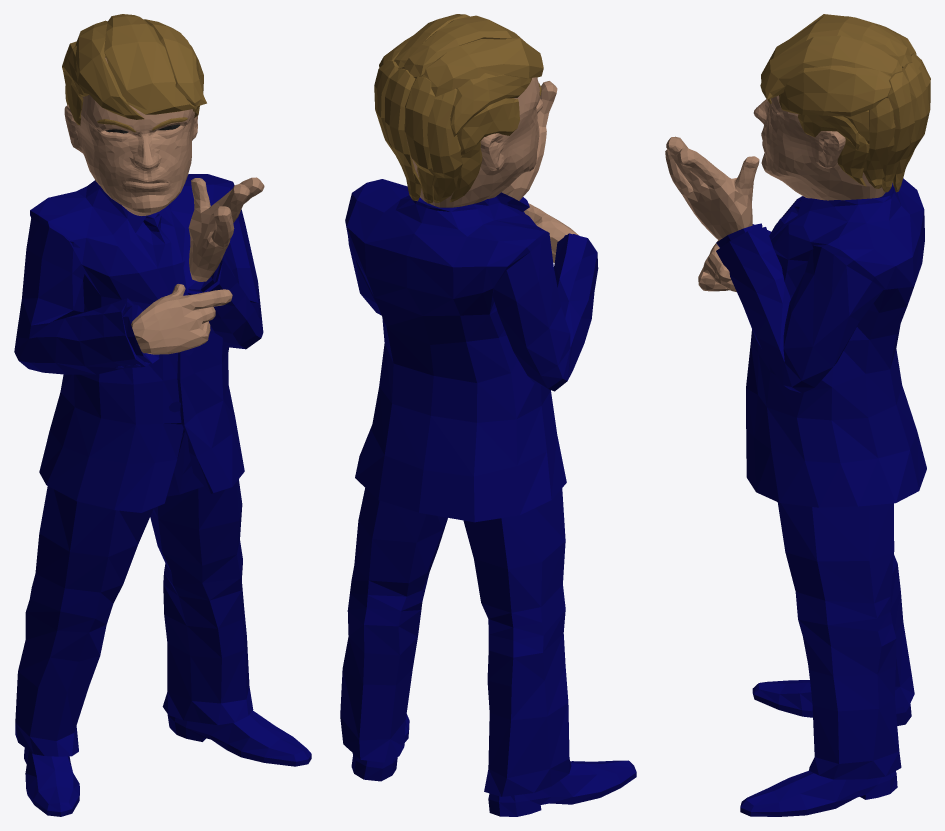
File: trump.dae
3 renders of one model, left to right at view 1: azimuth 30°, elevation 25°; view 2: azimuth 150°, elevation 25°; view 3: azimuth 270°, elevation 25°, orthographic. The views are drawn at different scales.
Parts seen in each view (by area): view 1: Trump_Suit_rdmobj02____rdmobj02__rdmobj02____rdmobj02_____00, Trump_Hair_pCube14_Trump_Geo, Trump_Head_1_Group2_Trump_Geo, Group2_Trump_Geo; view 2: Trump_Suit_rdmobj02____rdmobj02__rdmobj02____rdmobj02_____00, Trump_Hair_pCube14_Trump_Geo, Trump_Head_1_Group2_Trump_Geo, Group2_Trump_Geo; view 3: Trump_Suit_rdmobj02____rdmobj02__rdmobj02____rdmobj02_____00, Trump_Hair_pCube14_Trump_Geo, Trump_Head_1_Group2_Trump_Geo, Group2_Trump_Geo.
Part boxes in pixels (x1,y1,x2,y2): Trump_Suit_rdmobj02____rdmobj02__rdmobj02____rdmobj02_____00: [14, 174, 311, 816]; Trump_Hair_pCube14_Trump_Geo: [62, 14, 206, 125]; Trump_Head_1_Group2_Trump_Geo: [64, 57, 197, 215]; Group2_Trump_Geo: [131, 177, 264, 354]; Trump_Suit_rdmobj02____rdmobj02__rdmobj02____rdmobj02_____00: [340, 179, 636, 816]; Trump_Hair_pCube14_Trump_Geo: [374, 14, 543, 203]; Trump_Head_1_Group2_Trump_Geo: [406, 77, 543, 207]; Group2_Trump_Geo: [501, 81, 578, 262]; Trump_Suit_rdmobj02____rdmobj02__rdmobj02____rdmobj02_____00: [716, 178, 926, 816]; Trump_Hair_pCube14_Trump_Geo: [760, 14, 930, 192]; Trump_Head_1_Group2_Trump_Geo: [753, 95, 885, 200]; Group2_Trump_Geo: [665, 136, 759, 292].
Size of the model in its own units: 0.6324 by 0.565 by 1.72.
